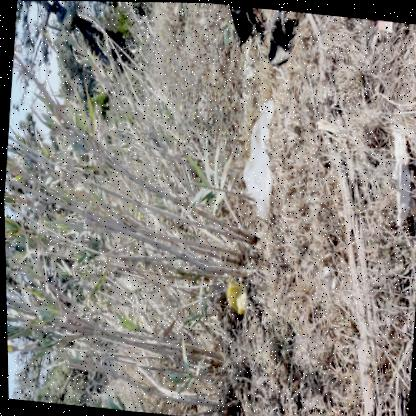Plastic: (242, 98, 273, 216), (224, 276, 245, 313), (370, 29, 382, 57), (198, 95, 206, 117)
Waste: (390, 127, 409, 224), (267, 8, 294, 64), (242, 32, 256, 111), (322, 265, 334, 287), (224, 22, 234, 43), (377, 18, 393, 30), (279, 106, 288, 127)
